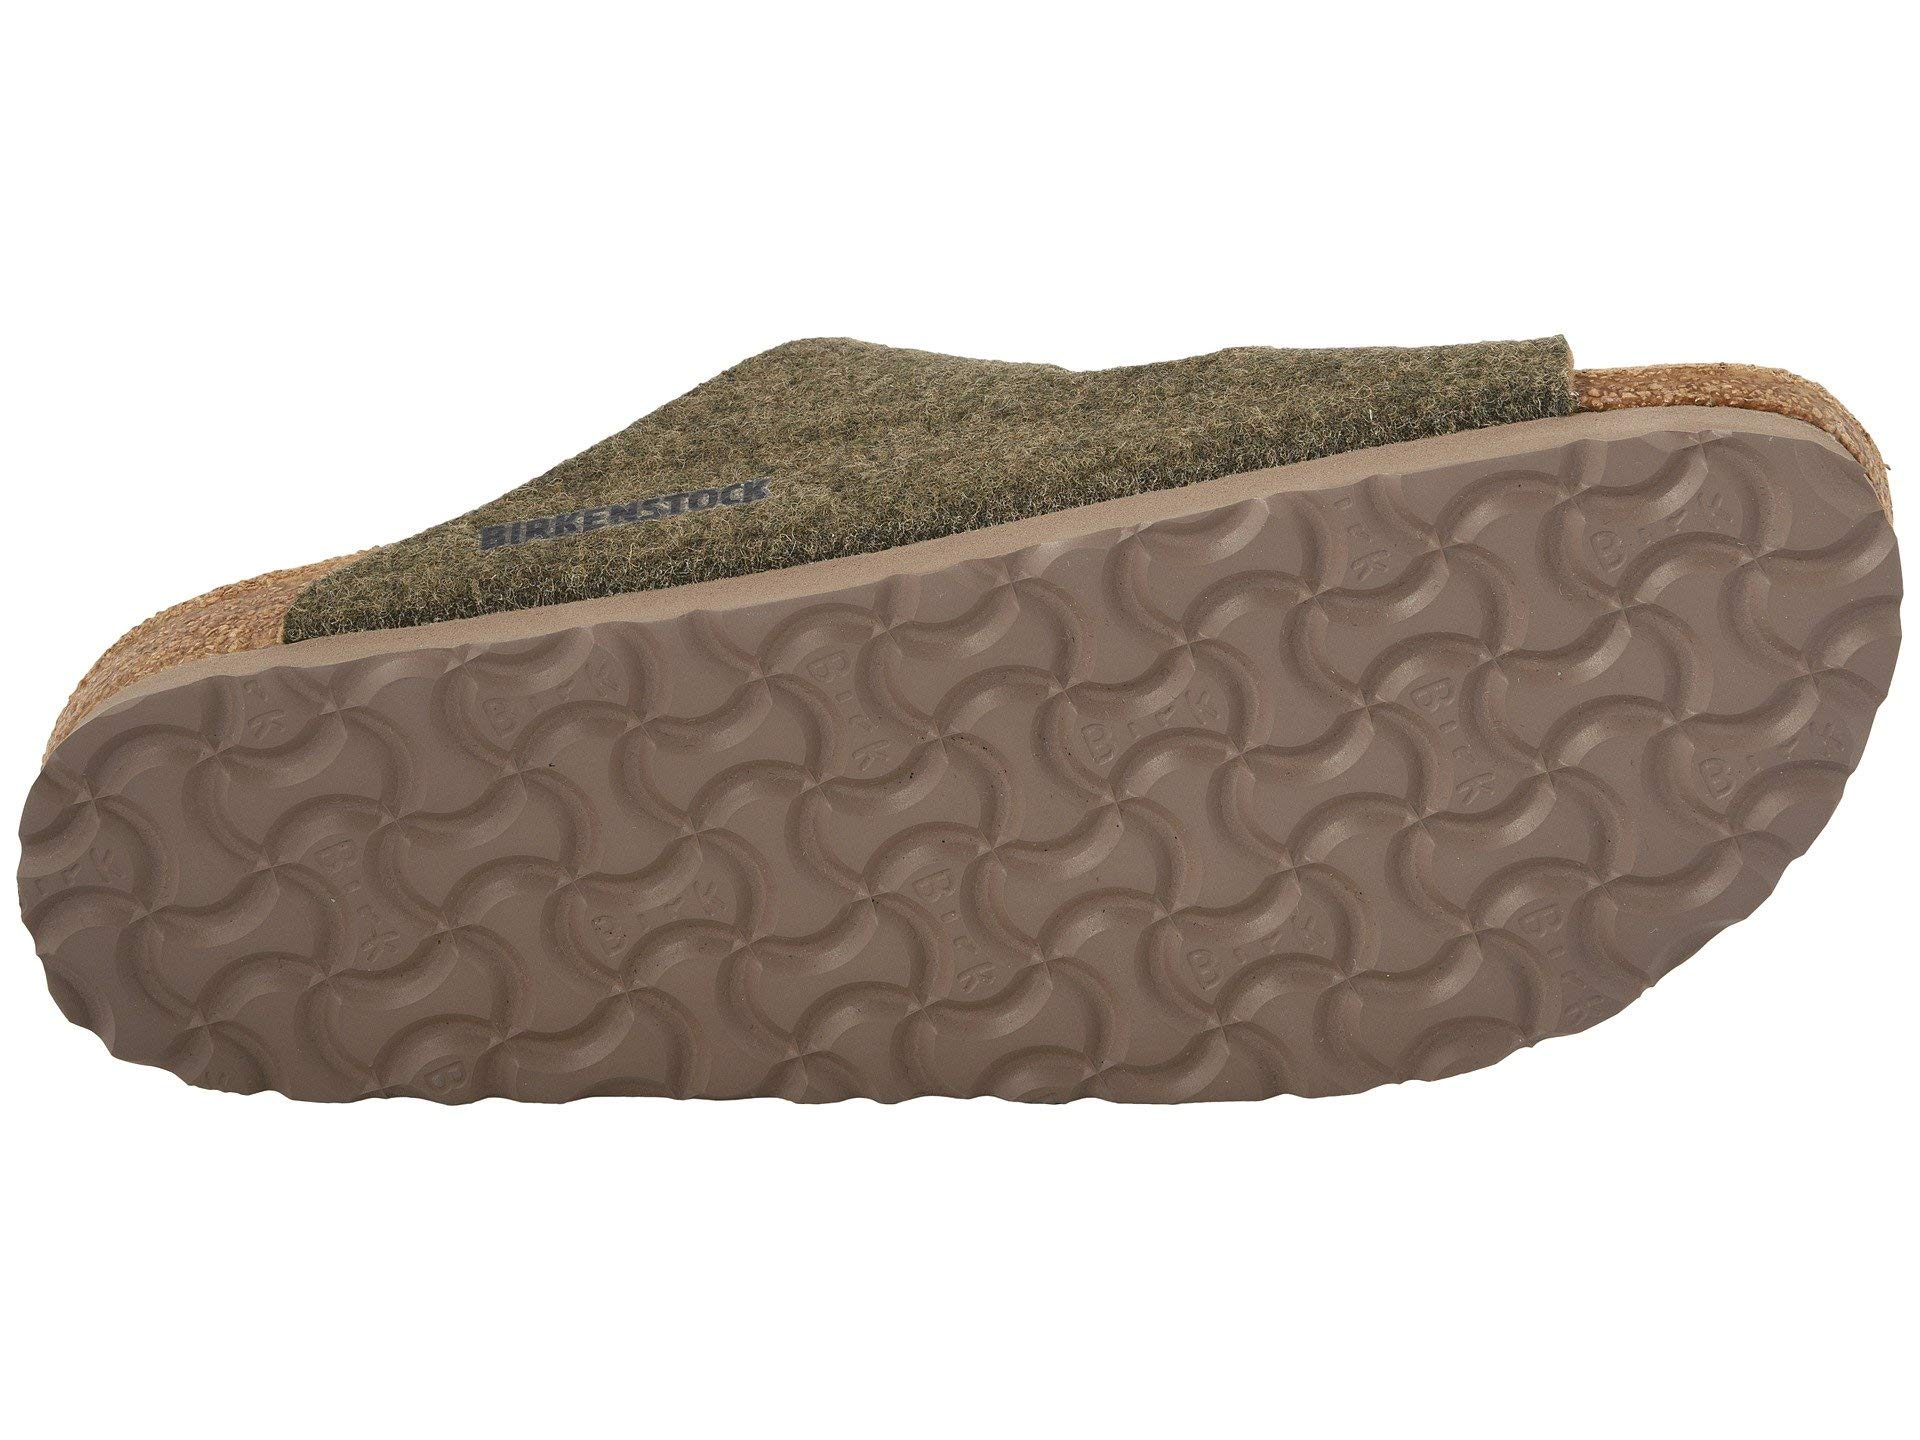bowtie: (1126, 523, 1621, 1021), (587, 678, 996, 1065)
text: (1126, 523, 1621, 1021), (587, 678, 996, 1065)
